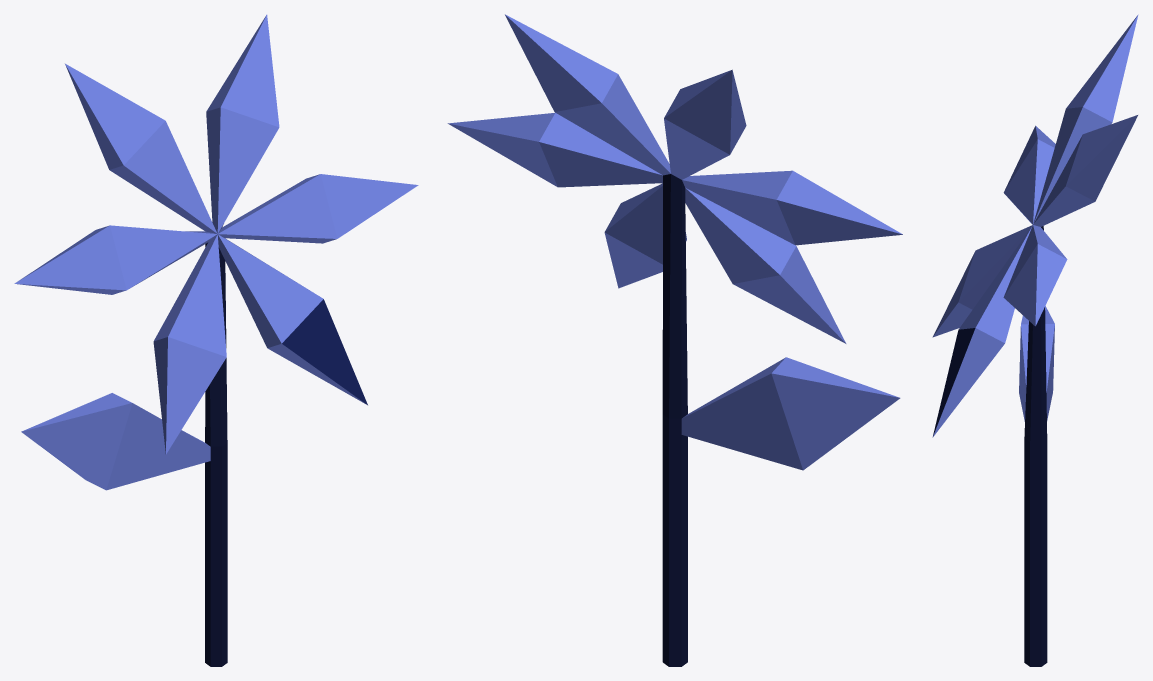
Rendered from CyrstalFlower.fbx.
3 renders of one model, left to right at view 1: azimuth 30°, elevation 25°; view 2: azimuth 150°, elevation 25°; view 3: azimuth 270°, elevation 25°, orthographic. The views are drawn at different scales.
Parts seen in each view (by area): view 1: Crystal Flower; view 2: Crystal Flower; view 3: Crystal Flower.
Part boxes in pixels (x1,y1,x2,y2): Crystal Flower: [14, 14, 418, 666]; Crystal Flower: [447, 14, 902, 666]; Crystal Flower: [932, 14, 1138, 666].
Bounding box in the file's own units: 209 × 289 × 90.35.
1 material, 1 textured.
